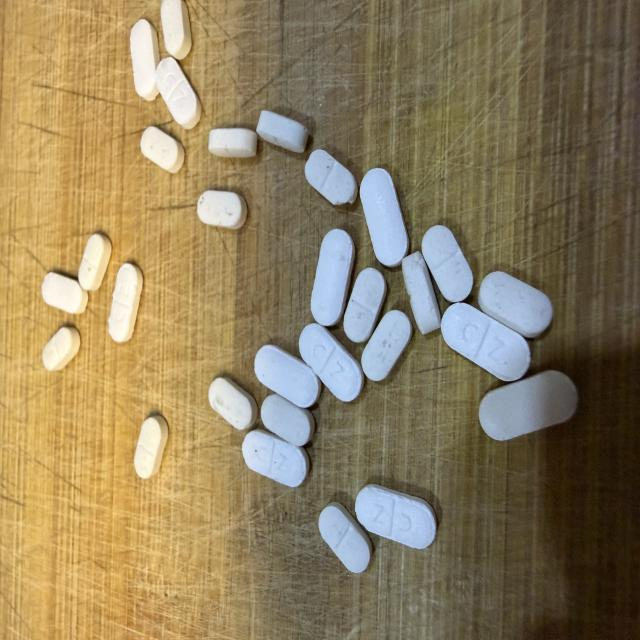pill: (441, 303, 530, 381), (479, 371, 578, 440), (356, 485, 436, 548), (299, 324, 363, 401), (360, 168, 409, 267), (479, 272, 553, 337), (311, 229, 354, 326), (255, 345, 321, 407), (422, 225, 473, 302), (242, 429, 309, 486), (319, 503, 372, 572), (361, 310, 412, 380), (402, 252, 441, 334), (156, 58, 201, 129), (344, 268, 386, 342), (305, 150, 357, 205), (261, 394, 315, 446), (108, 263, 143, 342), (209, 377, 257, 430), (130, 20, 159, 100), (134, 416, 168, 478), (257, 111, 308, 152), (141, 127, 184, 173), (197, 191, 247, 229), (42, 272, 88, 313), (79, 234, 111, 291), (161, 0, 191, 59), (43, 327, 80, 371), (209, 128, 257, 157)
